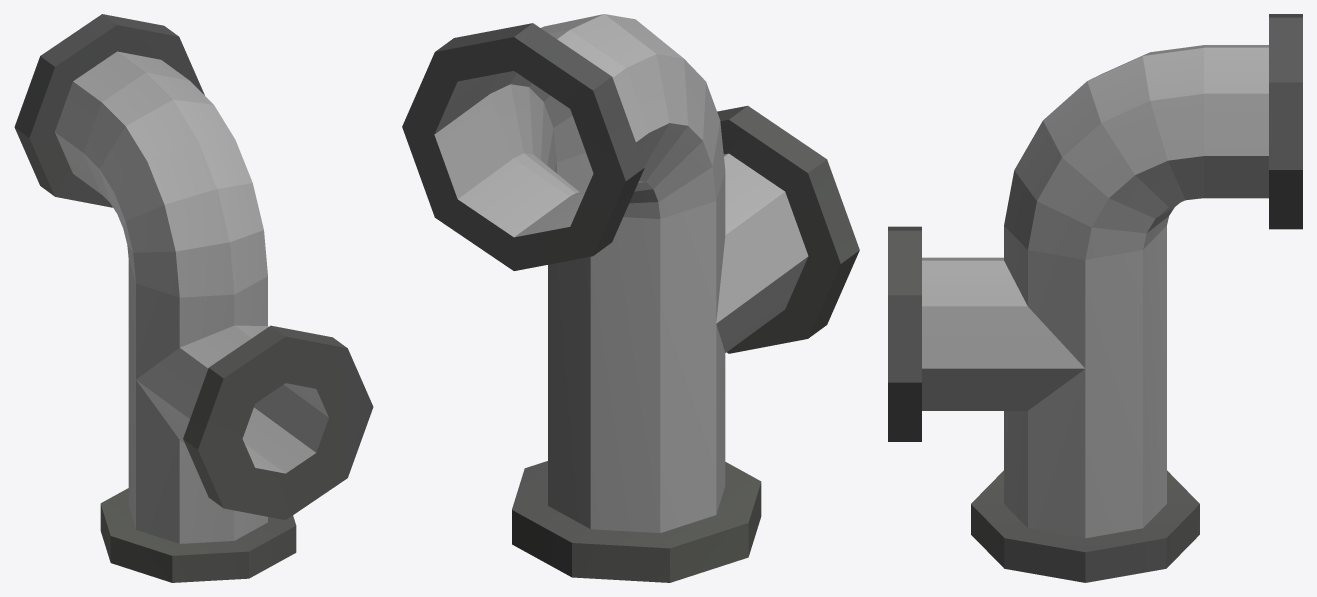
The model's file is Pipe_big_short_2.fbx.
3 views of the same model, side by side, from view 1: azimuth 30°, elevation 25°; view 2: azimuth 150°, elevation 25°; view 3: azimuth 270°, elevation 25° (orthographic). The views are drawn at different scales.
Visible parts, largest first — view 1: Pipe_big_short_2; view 2: Pipe_big_short_2; view 3: Pipe_big_short_2.
Part boxes in pixels (x1=…): Pipe_big_short_2: x1=14, y1=14, x2=373, y2=582; Pipe_big_short_2: x1=402, y1=14, x2=859, y2=582; Pipe_big_short_2: x1=888, y1=14, x2=1302, y2=582.
Bounding box in the file's own units: 54.15 × 135 × 98.08.
